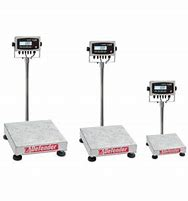Industrial Scale: (3, 35, 68, 161), (79, 40, 138, 162), (147, 80, 187, 160)
